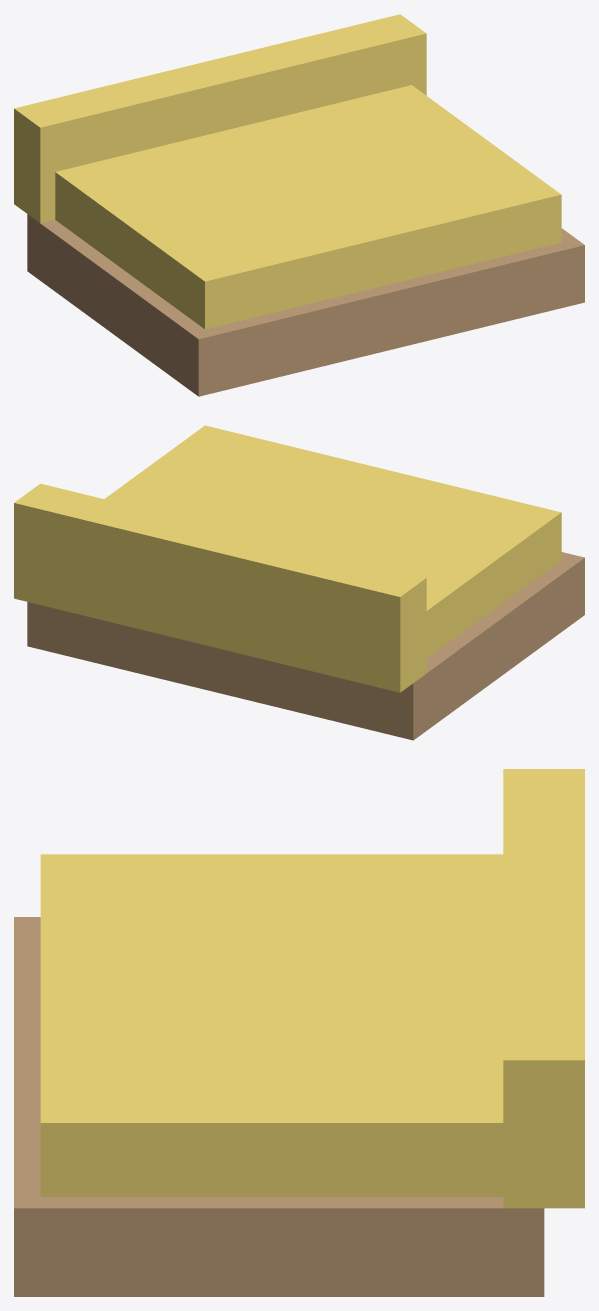
Rendered from Prop_Pet_AMF_Bed_V8.glb.
3 renders of one model, top to bottom at view 1: azimuth 30°, elevation 25°; view 2: azimuth 150°, elevation 25°; view 3: azimuth 270°, elevation 25°, orthographic. The views are drawn at different scales.
Parts seen in each view (by area): view 1: Prop_Pet_AMF_Bed_V8; view 2: Prop_Pet_AMF_Bed_V8; view 3: Prop_Pet_AMF_Bed_V8.
Part boxes in pixels (left/top/right/bottom): Prop_Pet_AMF_Bed_V8: left=14, top=14, right=584, bottom=396; Prop_Pet_AMF_Bed_V8: left=14, top=425, right=584, bottom=740; Prop_Pet_AMF_Bed_V8: left=14, top=769, right=584, bottom=1296.
Bounding box in the file's own units: 0.845 × 0.32 × 0.7.
